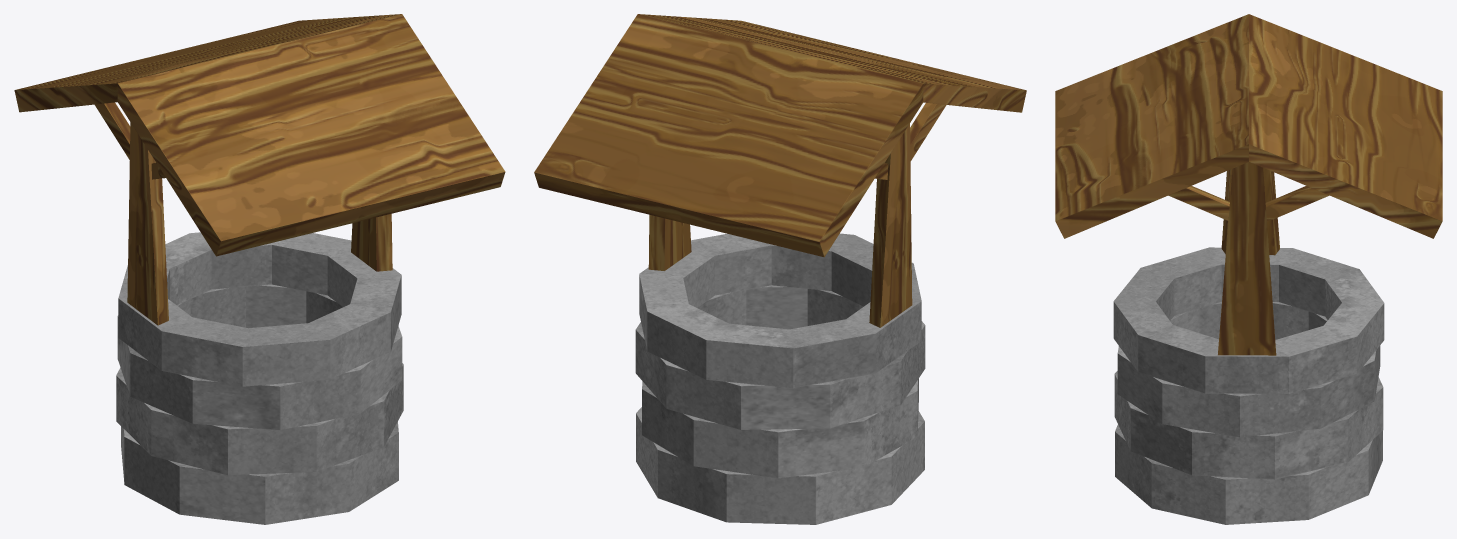
Rendered from BorNam.fbx.
The picture shows the model from 3 angles, left to right: view 1: azimuth 30°, elevation 25°; view 2: azimuth 150°, elevation 25°; view 3: azimuth 270°, elevation 25°; orthographic projection. The views are drawn at different scales.
Parts seen in each view (by area): view 1: BorNam; view 2: BorNam; view 3: BorNam.
Part boxes in pixels (box(x1,y1,x2,y2)): BorNam: box(14, 14, 505, 524); BorNam: box(534, 14, 1026, 524); BorNam: box(1055, 14, 1442, 524).
Bounding box in the file's own units: 2.43 × 3.39 × 3.06.
